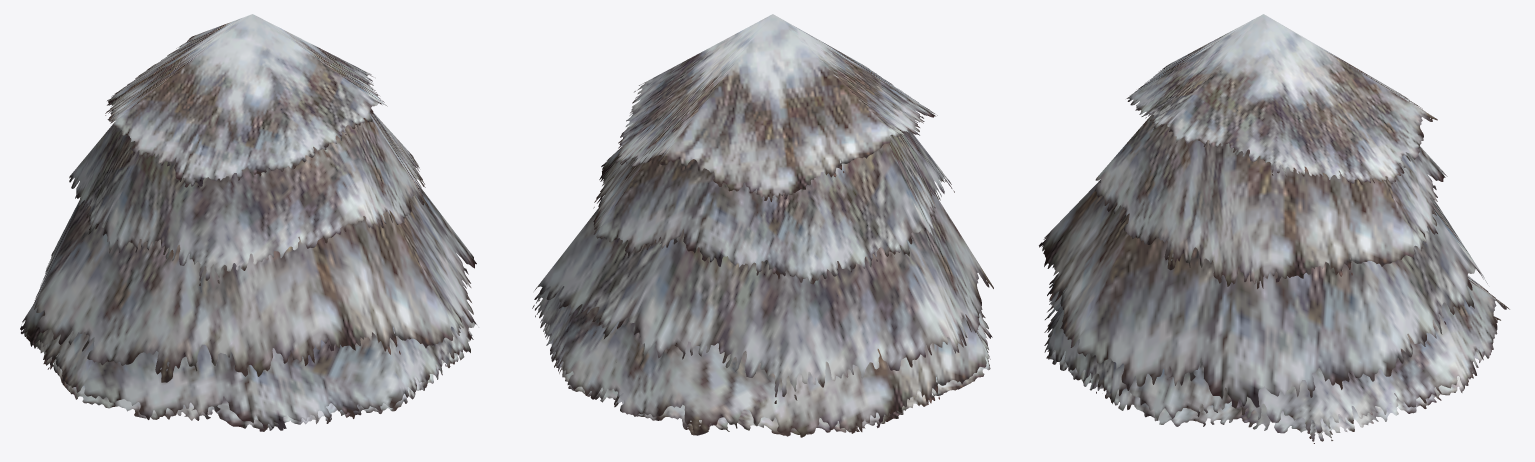
The model's file is Item_05.FBX.
3 views of the same model, side by side, from view 1: azimuth 30°, elevation 25°; view 2: azimuth 150°, elevation 25°; view 3: azimuth 270°, elevation 25° (orthographic).
Visible parts, largest first — view 1: item_05; view 2: item_05; view 3: item_05.
Boxes of the visible parts, x1,y1,x2,y2 form: item_05: (20,14,477,431); item_05: (532,14,993,437); item_05: (1039,14,1509,443).
Bounding box in the file's own units: 172 × 125 × 169.
